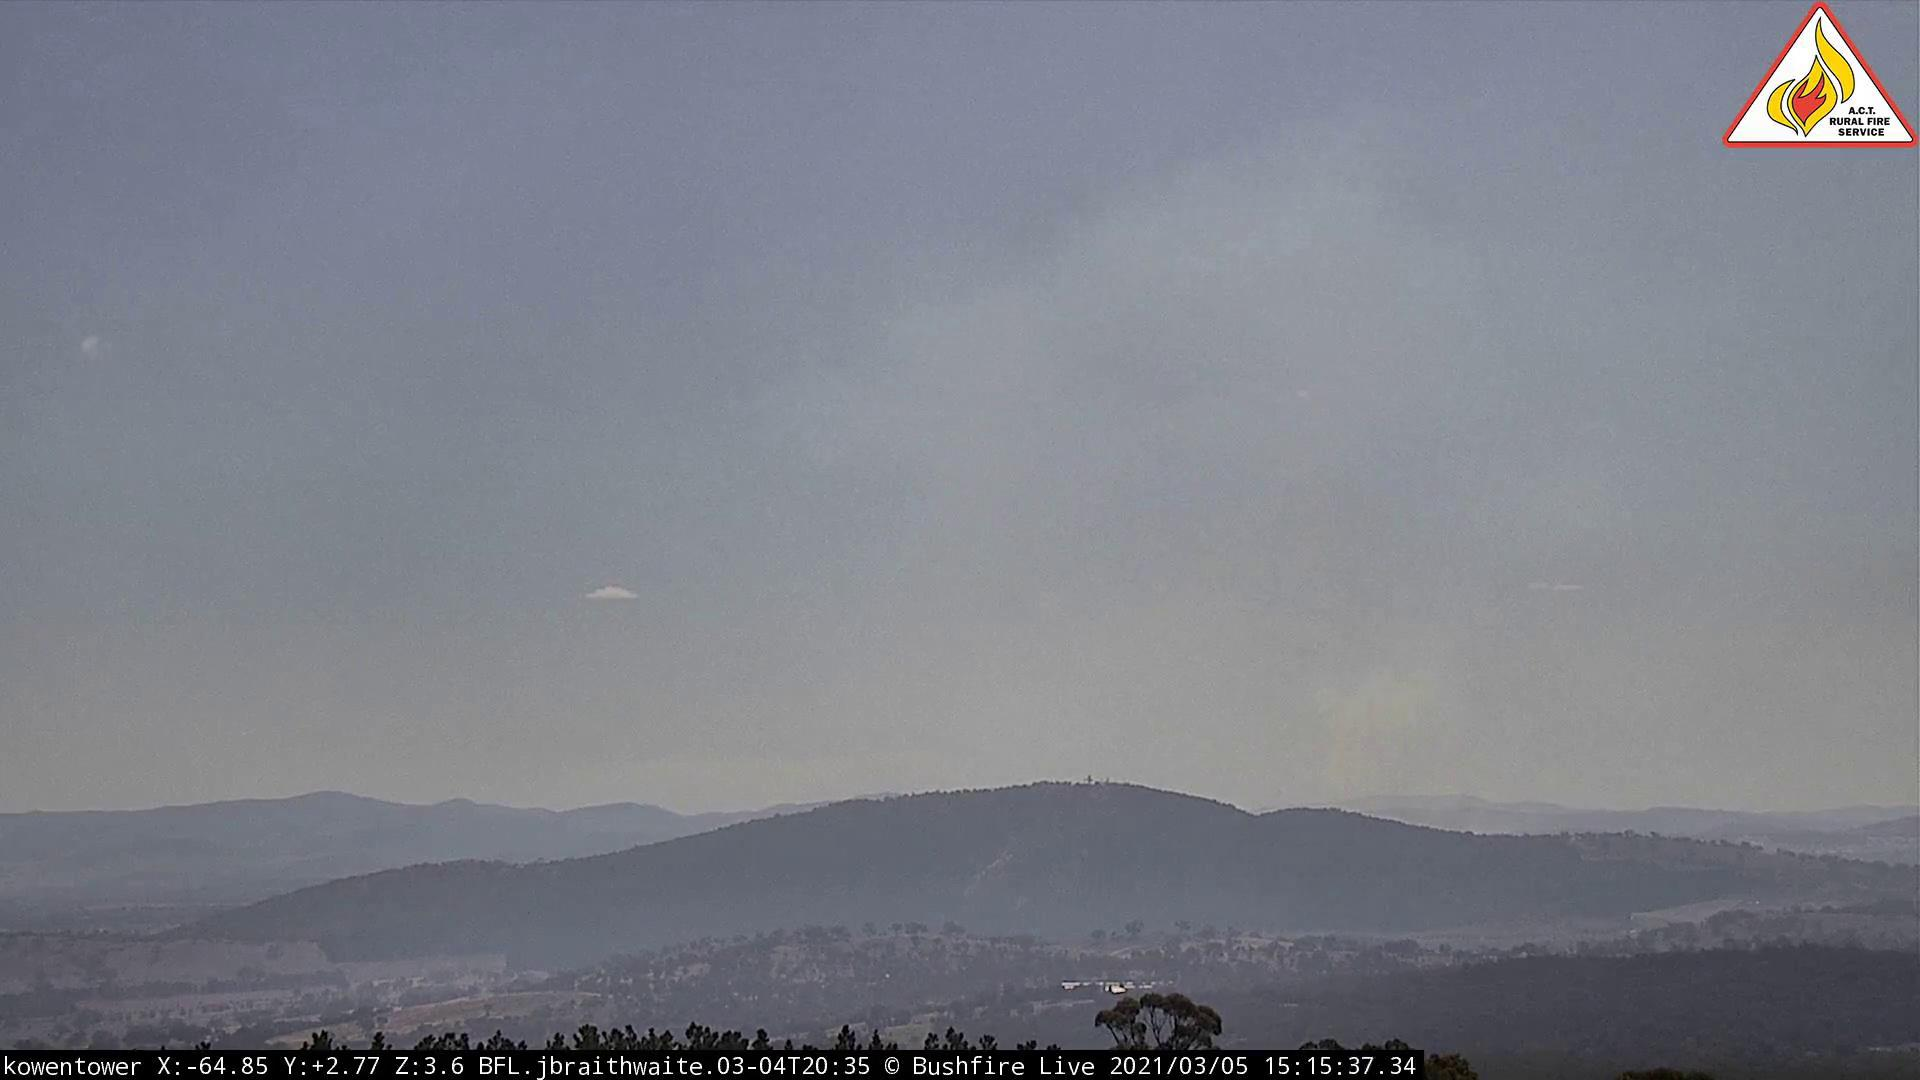instance_salient_object: (1226, 443, 1698, 844)
